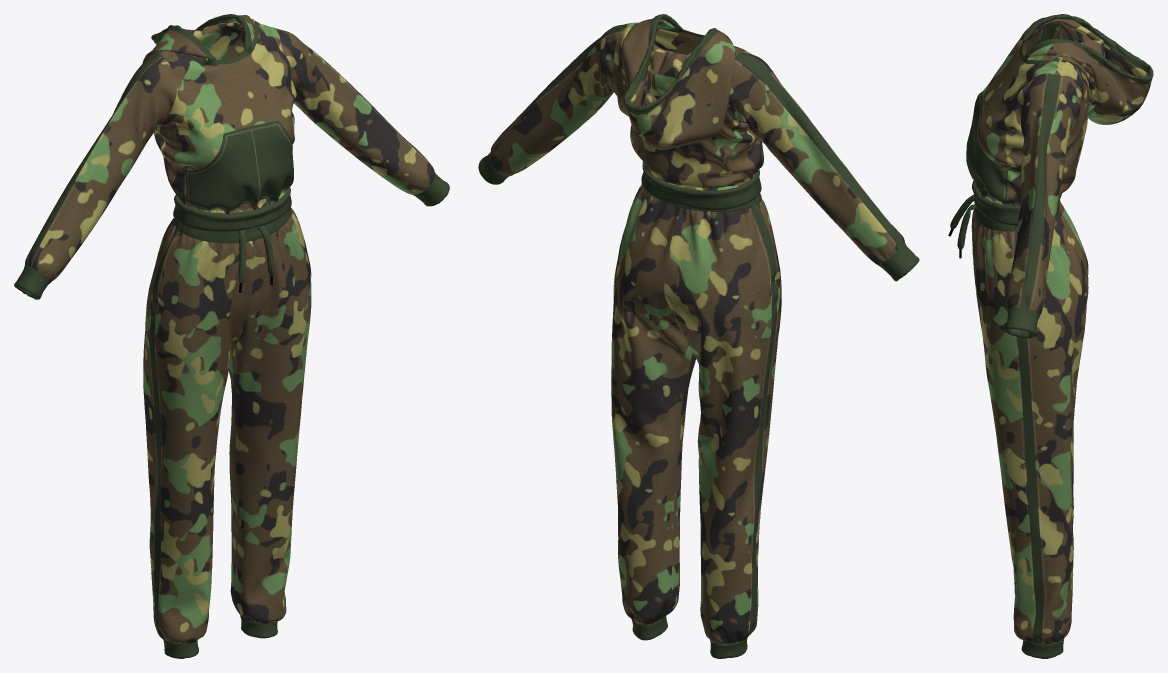
The picture shows the model from 3 angles, left to right: view 1: azimuth 30°, elevation 25°; view 2: azimuth 150°, elevation 25°; view 3: azimuth 270°, elevation 25°; orthographic projection. The views are drawn at different scales.
Parts seen in each view (by area): view 1: hoodie1:Mesh1_2; view 2: hoodie1:Mesh1_2; view 3: hoodie1:Mesh1_2.
Part boxes in pixels (<box>): hoodie1:Mesh1_2: <box>14,14,449,658</box>; hoodie1:Mesh1_2: <box>478,14,919,658</box>; hoodie1:Mesh1_2: <box>948,14,1153,658</box>.
Bounding box in the file's own units: 22.35 × 30.67 × 9.37.
1 material, 1 textured.
